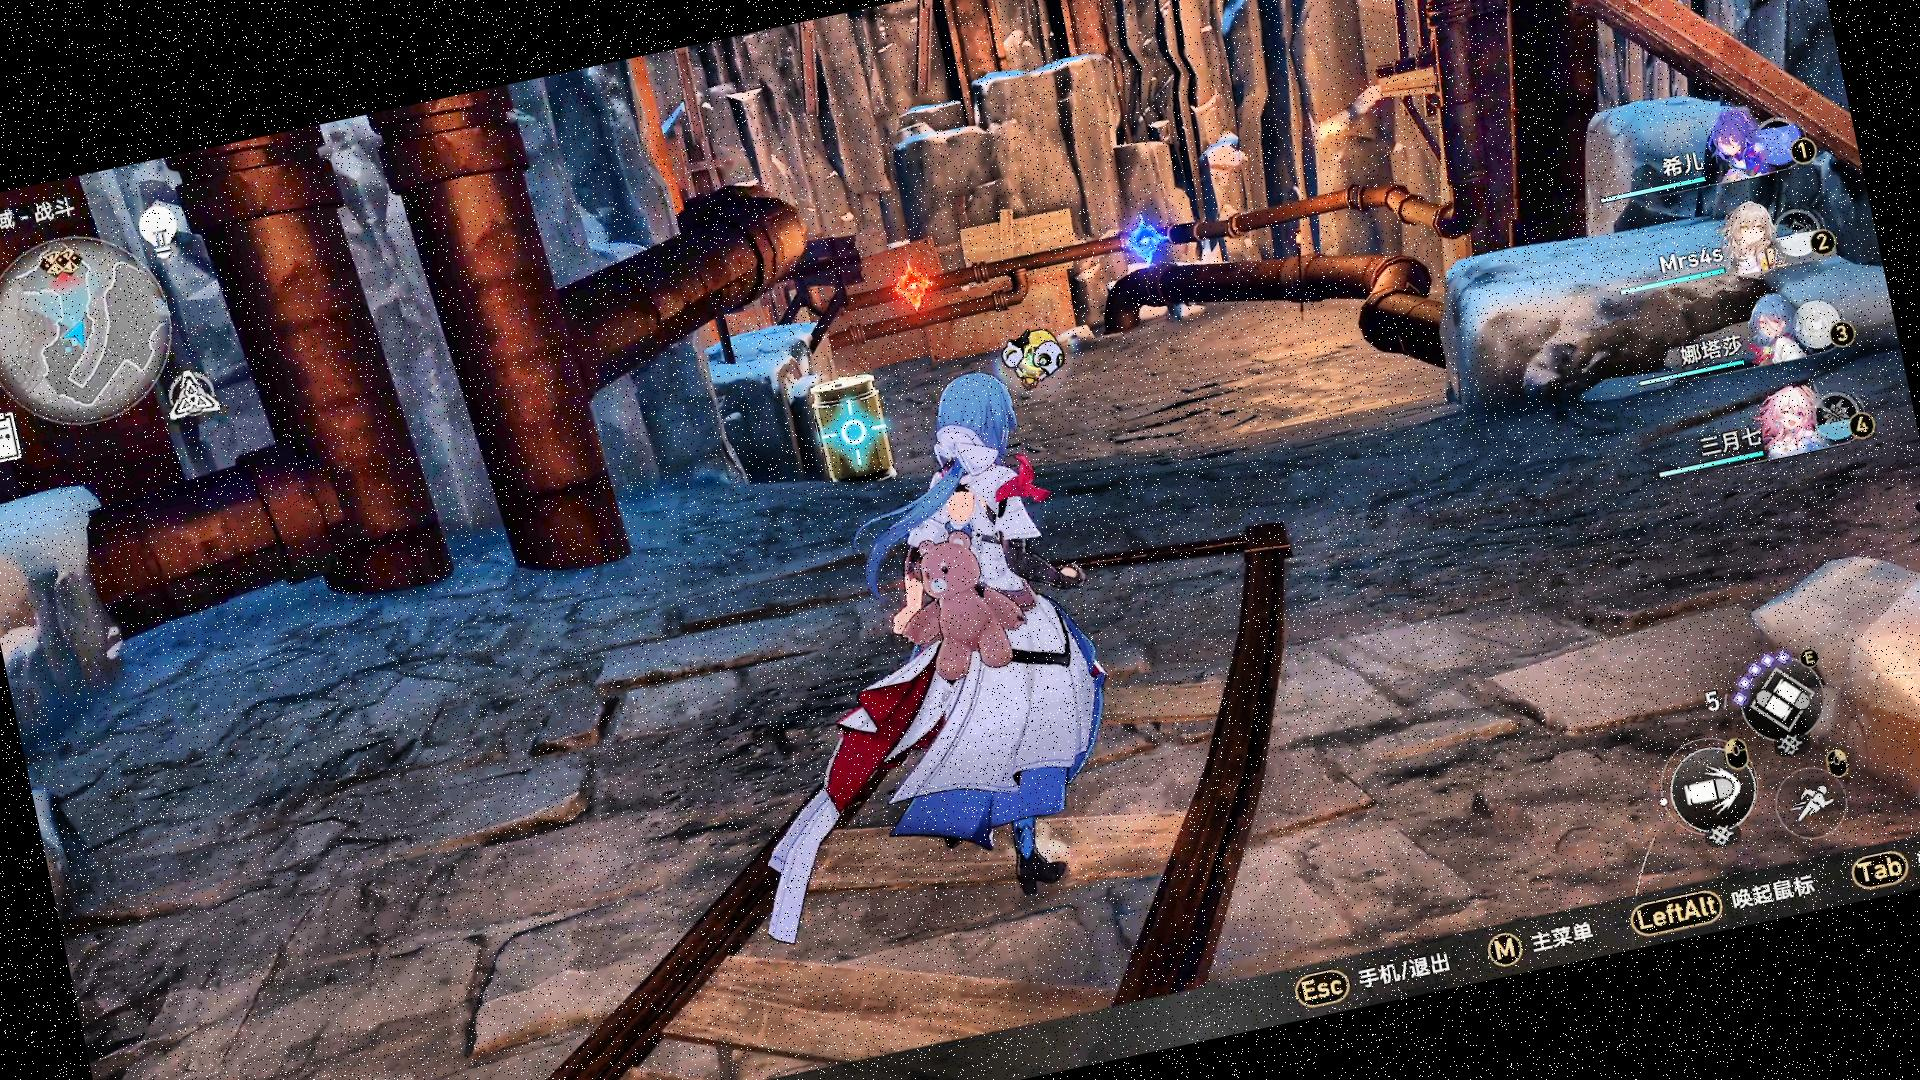BattleDoor: (887, 256, 945, 323)
Box: (789, 360, 913, 505)
Enemy: (982, 309, 1080, 394)
EventDoor: (1116, 211, 1179, 273)
Self: (687, 360, 1156, 953)
